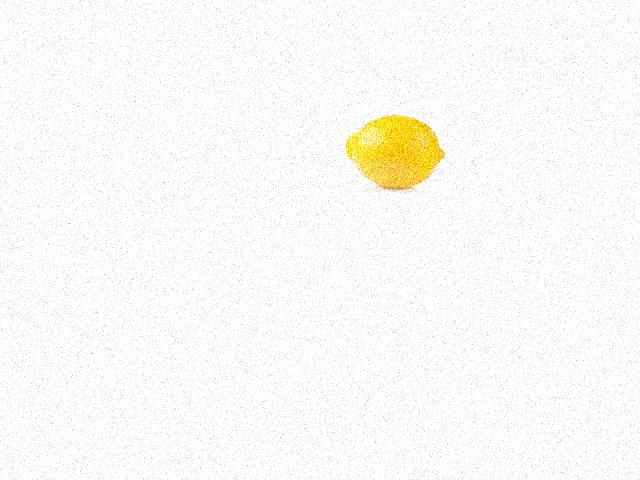lemon: (337, 111, 449, 185)
